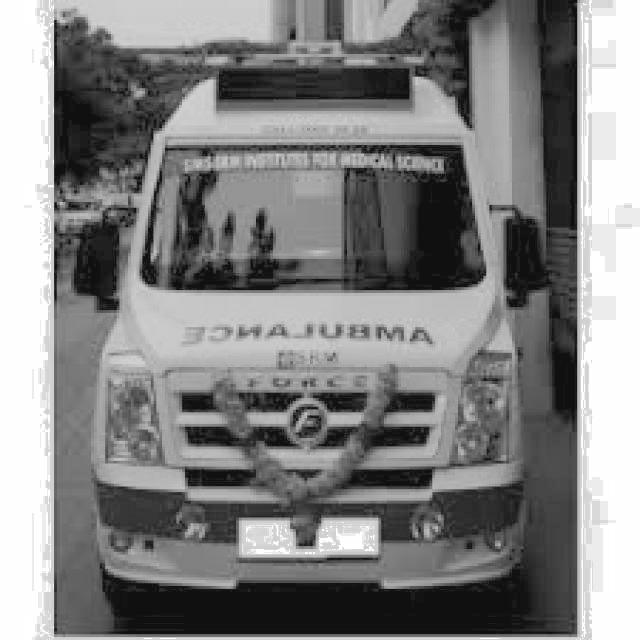LCV: (66, 35, 544, 590)
